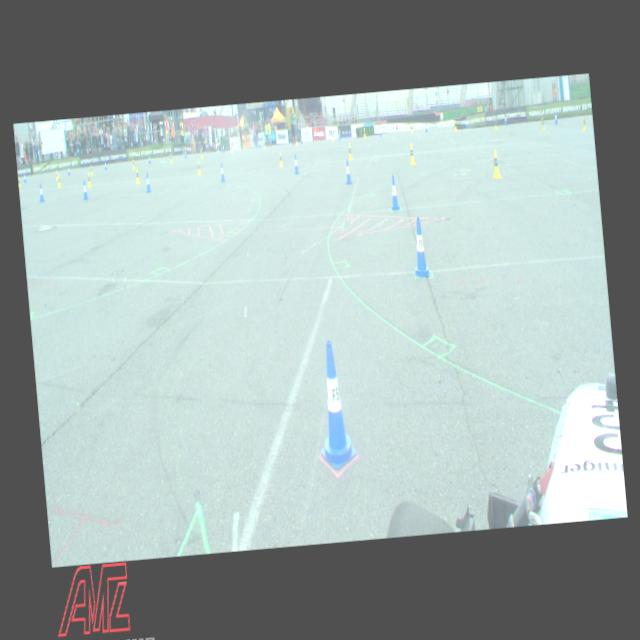blue_cone: (310, 338, 358, 470), (410, 216, 430, 278), (388, 173, 400, 210), (344, 158, 352, 184), (144, 172, 152, 192), (81, 180, 88, 199), (37, 184, 44, 202), (219, 162, 225, 182), (293, 154, 299, 174), (554, 111, 558, 124), (424, 121, 428, 132), (378, 127, 382, 136), (148, 154, 151, 164), (23, 172, 26, 182), (67, 166, 70, 175), (338, 130, 340, 140), (104, 160, 106, 169), (504, 115, 506, 124), (184, 149, 186, 158)
yellow_cone: (490, 148, 501, 178), (408, 143, 416, 165), (347, 142, 353, 160), (86, 172, 92, 186), (135, 167, 140, 183), (196, 159, 201, 175), (278, 152, 283, 166), (582, 115, 586, 131), (540, 114, 544, 130), (57, 174, 61, 186), (294, 135, 298, 145), (55, 169, 58, 180), (363, 128, 366, 136), (263, 140, 266, 148), (331, 132, 334, 140), (18, 175, 20, 186), (200, 148, 202, 158), (454, 120, 456, 130), (410, 124, 412, 134), (90, 165, 92, 174), (132, 159, 134, 168), (170, 153, 172, 162)
